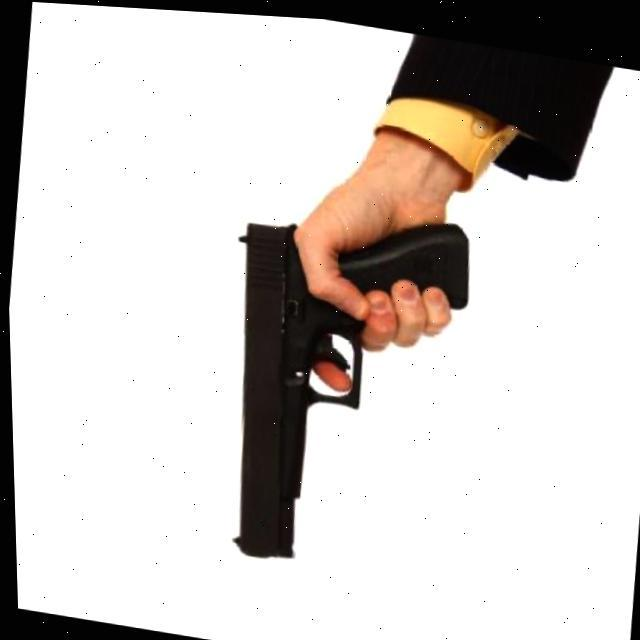gun: (188, 180, 486, 588)
